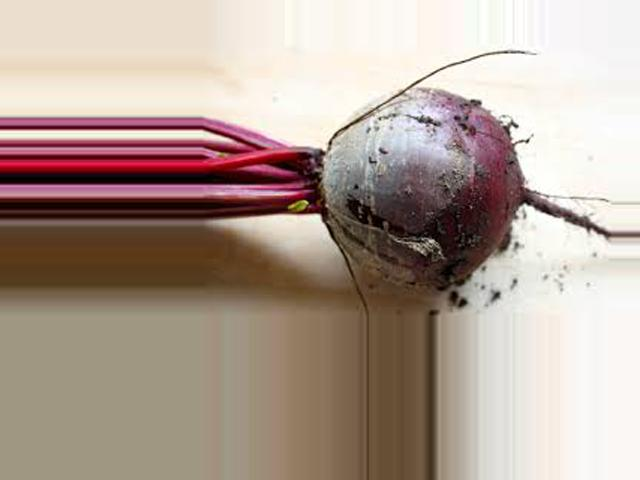beet: (204, 49, 613, 287)
